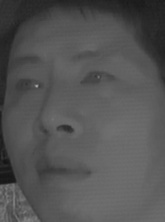eye: (79, 66, 118, 91), (9, 75, 47, 99)
mouth: (33, 148, 92, 191)
